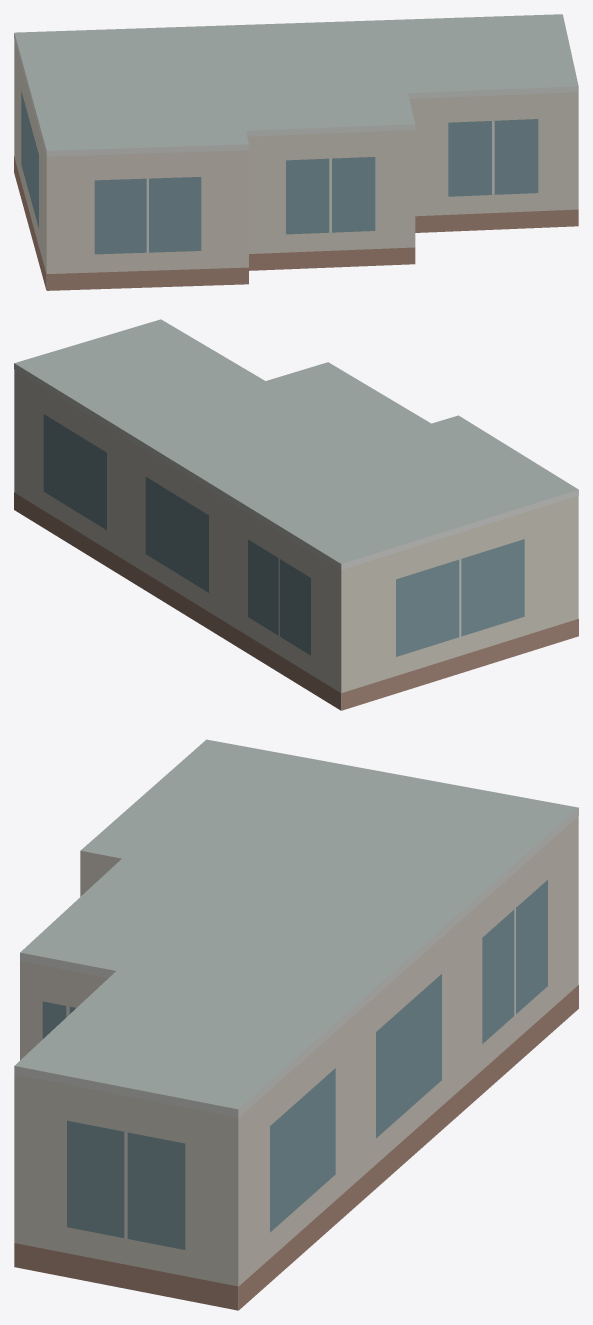
File: survey-upis-32812374.glb
The picture shows the model from 3 angles, top to bottom: view 1: azimuth 30°, elevation 25°; view 2: azimuth 150°, elevation 25°; view 3: azimuth 270°, elevation 25°; orthographic projection. The views are drawn at different scales.
Parts seen in each view (by area): view 1: survey-upis-32812374.tmp; view 2: survey-upis-32812374.tmp; view 3: survey-upis-32812374.tmp.
Boxes of the visible parts, <box> form: survey-upis-32812374.tmp: <box>14,14,578,290</box>; survey-upis-32812374.tmp: <box>14,319,578,710</box>; survey-upis-32812374.tmp: <box>14,739,578,1310</box>.
Size of the model in its own units: 12.05 by 3.05 by 7.77.
